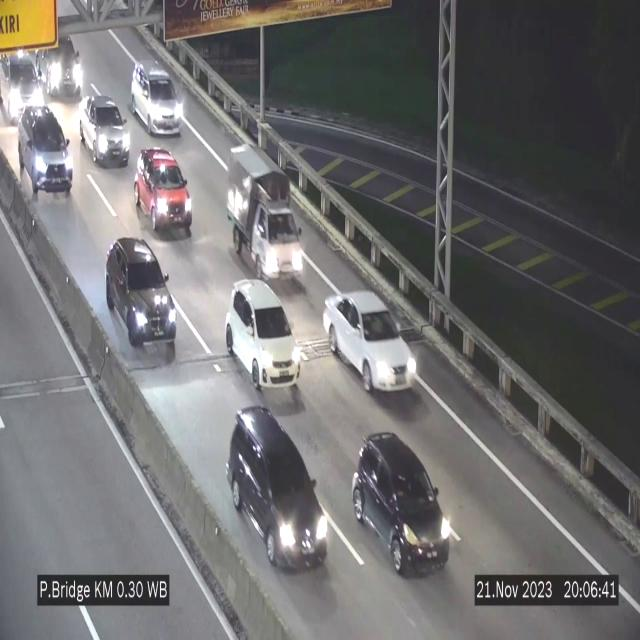Car: (227, 406, 329, 568), (352, 432, 450, 574), (324, 292, 421, 392), (106, 238, 176, 362), (225, 279, 299, 393), (16, 106, 74, 202), (135, 147, 193, 234), (35, 23, 95, 99), (131, 62, 183, 134), (79, 95, 130, 165), (0, 53, 48, 123)
Truck: (226, 147, 304, 280)
